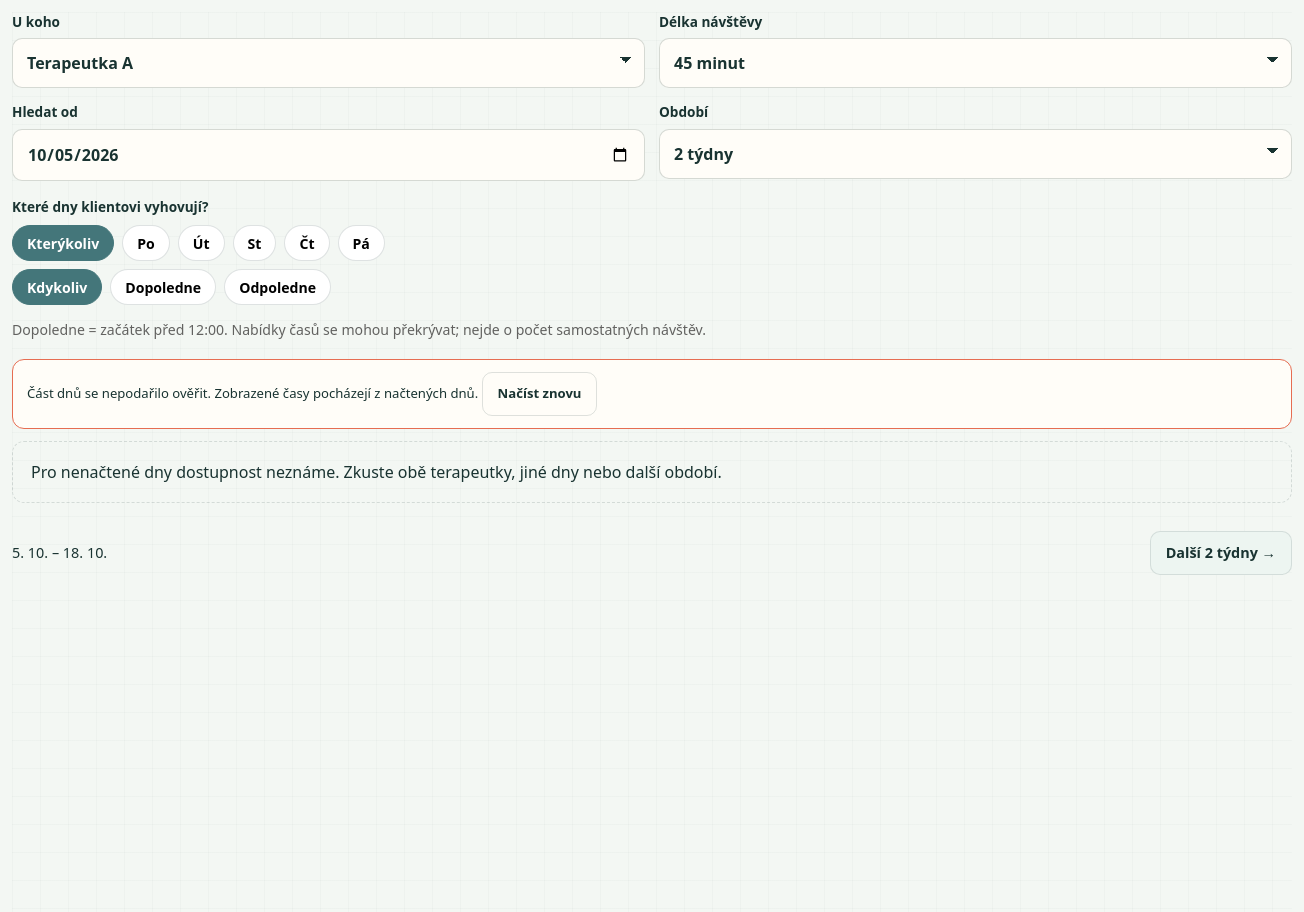
Scenario: availability search › does not present a network failure as a fully booked day and can retry
The image size is (1304, 912).
Expected: the message is shown, [12,359,1292,429]
Click the button "Načíst znovu".
click(540, 394)  # box [482,372,598,416]
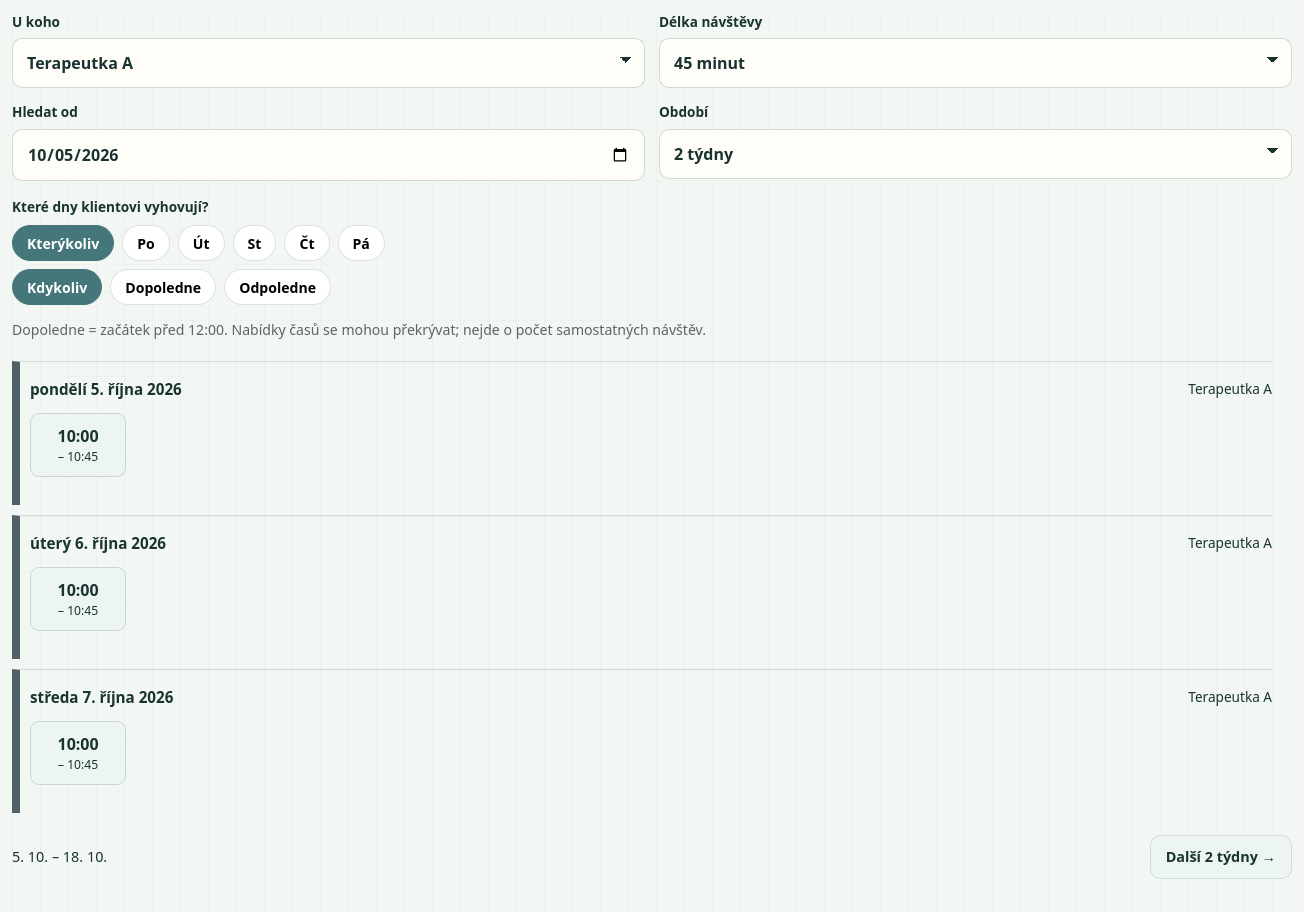
Expected: the button named "10:00 až" is shown, [30,413,126,477]
